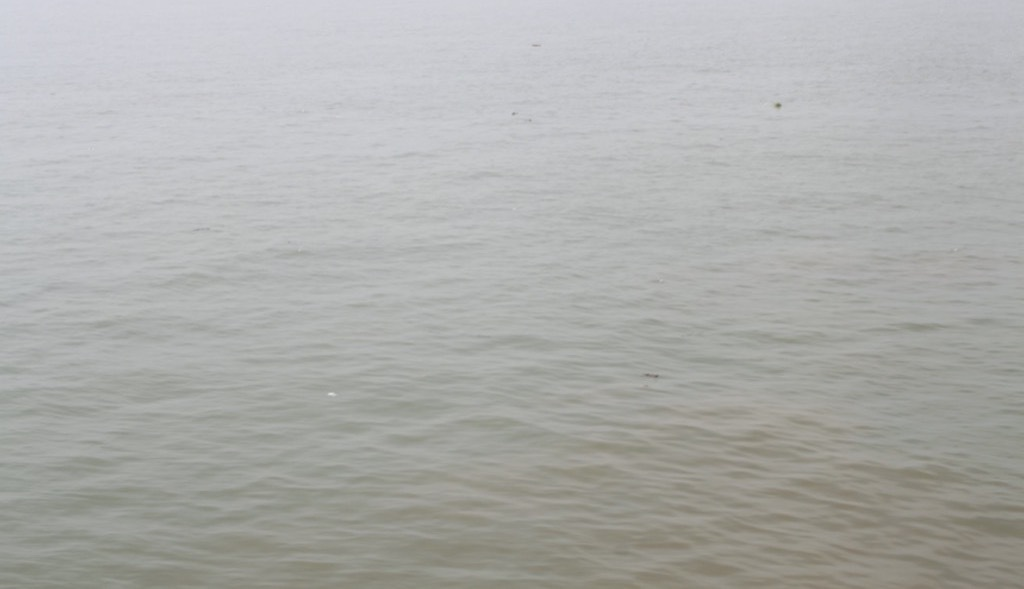organic: (505, 102, 540, 129), (635, 362, 667, 391), (769, 94, 789, 115), (524, 38, 547, 51)
plastic: (324, 387, 339, 401)
